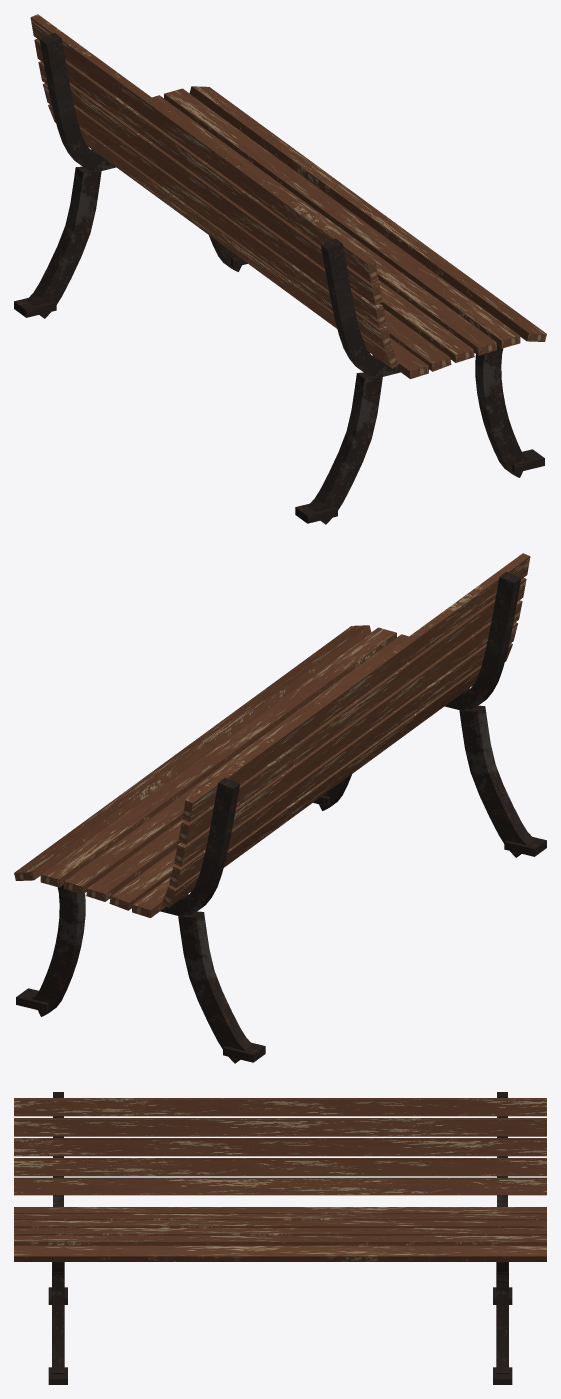
The model's file is bench_park_lod2_web.glb.
The picture shows the model from 3 angles, top to bottom: view 1: azimuth 30°, elevation 25°; view 2: azimuth 150°, elevation 25°; view 3: azimuth 270°, elevation 25°; orthographic projection. The views are drawn at different scales.
Visible parts, largest first — view 1: BenchPark_Mesh; view 2: BenchPark_Mesh; view 3: BenchPark_Mesh.
Boxes of the visible parts, x1=… form: BenchPark_Mesh: x1=14, y1=14, x2=546, y2=524; BenchPark_Mesh: x1=14, y1=553, x2=546, y2=1063; BenchPark_Mesh: x1=14, y1=1092, x2=546, y2=1384.
Size of the model in its own units: 0.78 by 0.8703 by 1.92.
2 materials, 2 textured.
